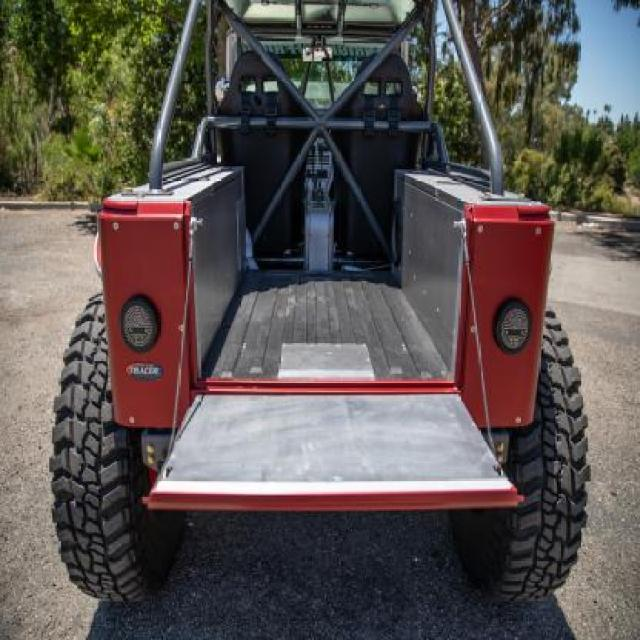Jeep: (47, 0, 587, 625)
